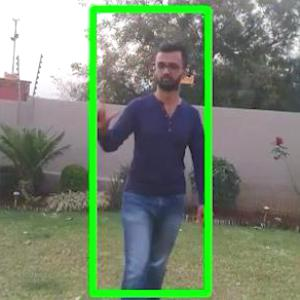land_hand: (87, 92, 126, 136)
